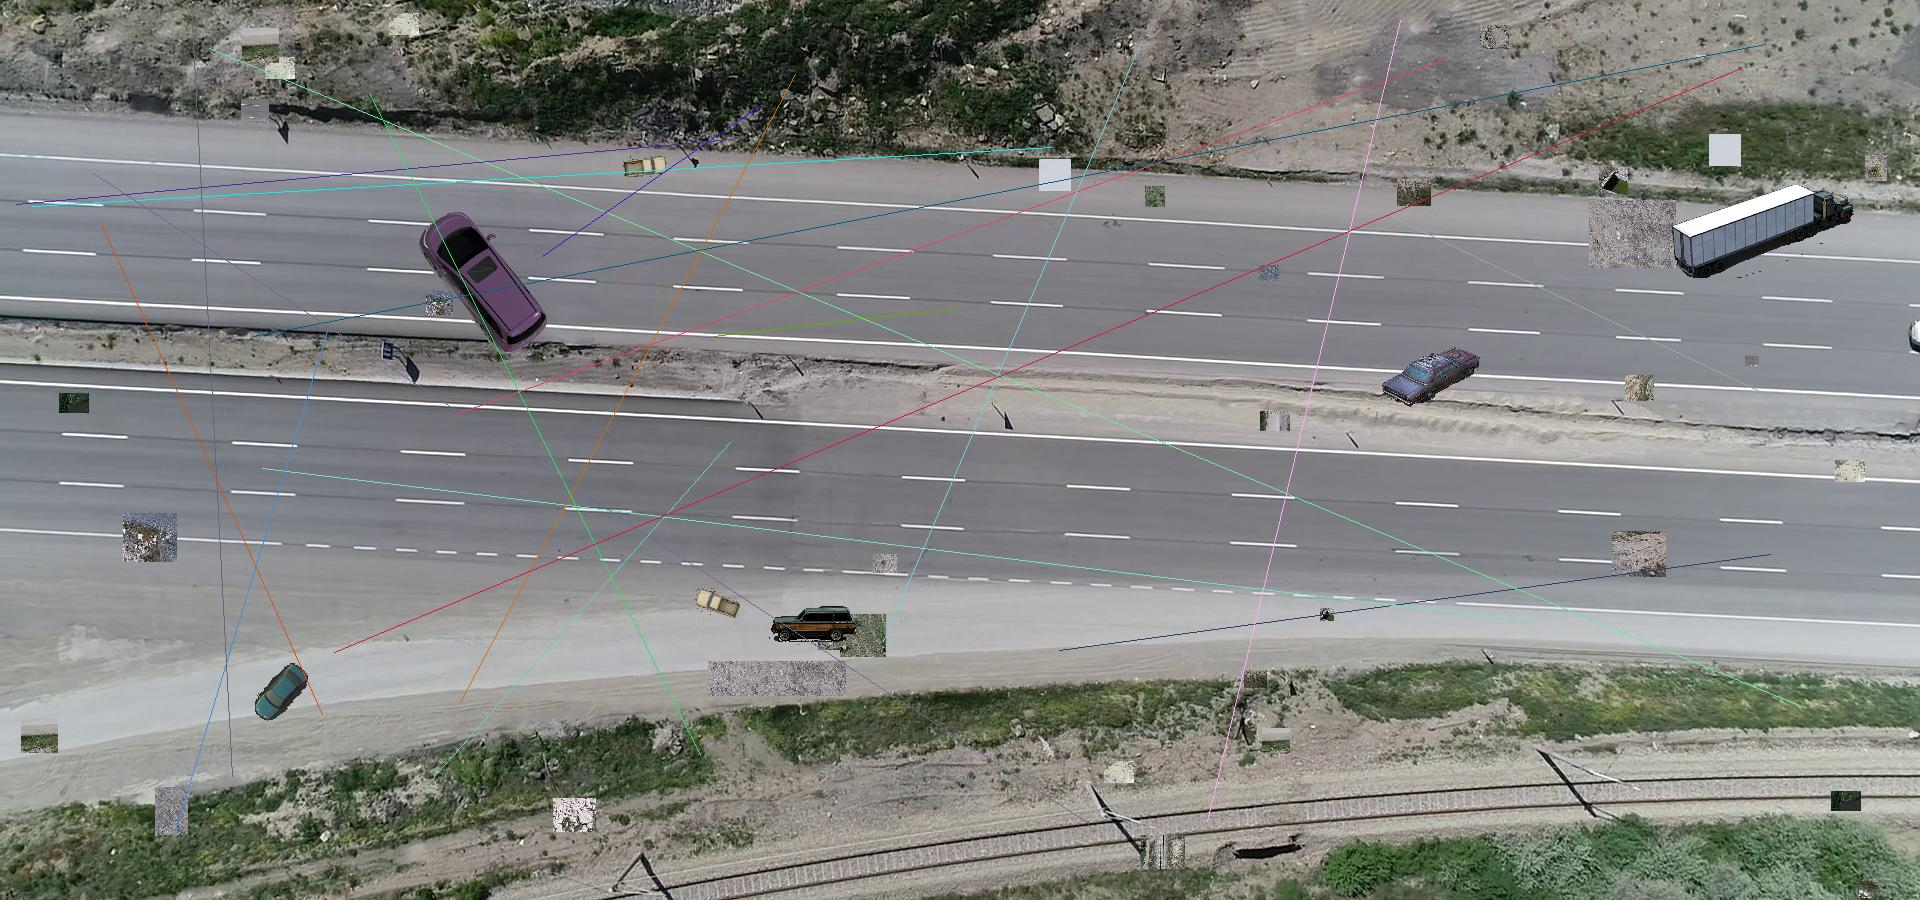arac: (419, 211, 549, 354), (1665, 185, 1855, 278), (1380, 347, 1482, 409), (768, 605, 858, 645), (255, 660, 309, 721), (696, 588, 741, 618), (622, 156, 667, 178)
